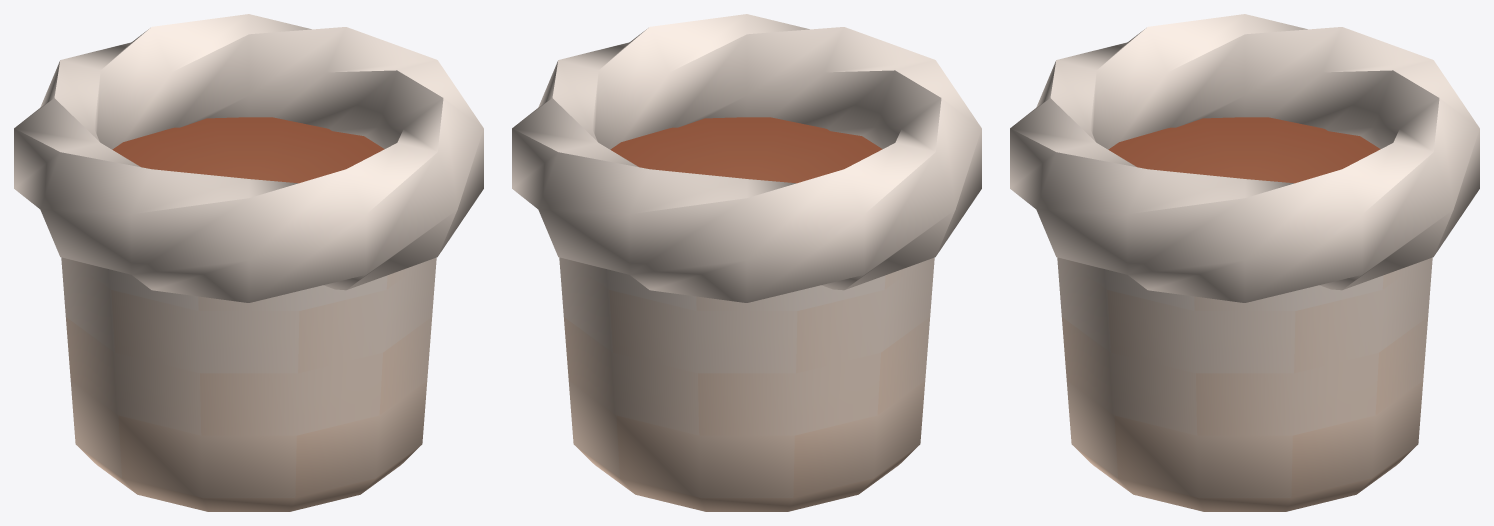
Rendered from pot_D_small.fbx.
3 renders of one model, left to right at view 1: azimuth 30°, elevation 25°; view 2: azimuth 150°, elevation 25°; view 3: azimuth 270°, elevation 25°, orthographic.
Parts seen in each view (by area): view 1: pot_D_small; view 2: pot_D_small; view 3: pot_D_small.
Boxes of the visible parts, left/top/right/bottom form: pot_D_small: left=14, top=14, right=483, bottom=511; pot_D_small: left=512, top=14, right=981, bottom=511; pot_D_small: left=1010, top=14, right=1479, bottom=511.
Bounding box in the file's own units: 50 × 40 × 48.72.
Materials: 1 (1 with a texture image).
